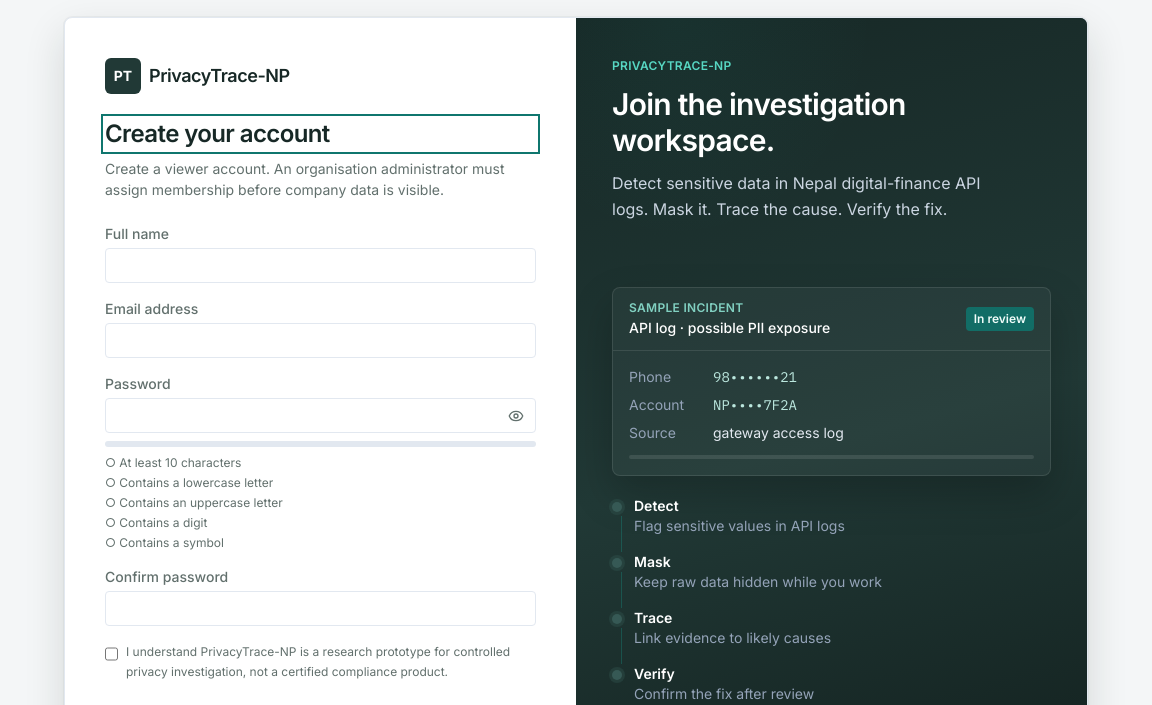
Test: auth signup UI › shows duplicate account error safely
Expected: the heading "Create your account" is shown, x1=105 y1=118 x2=536 y2=150
Type "Synth User" into the field labelled "Full name". click: (320,266)
box: x1=105 y1=248 x2=536 y2=283
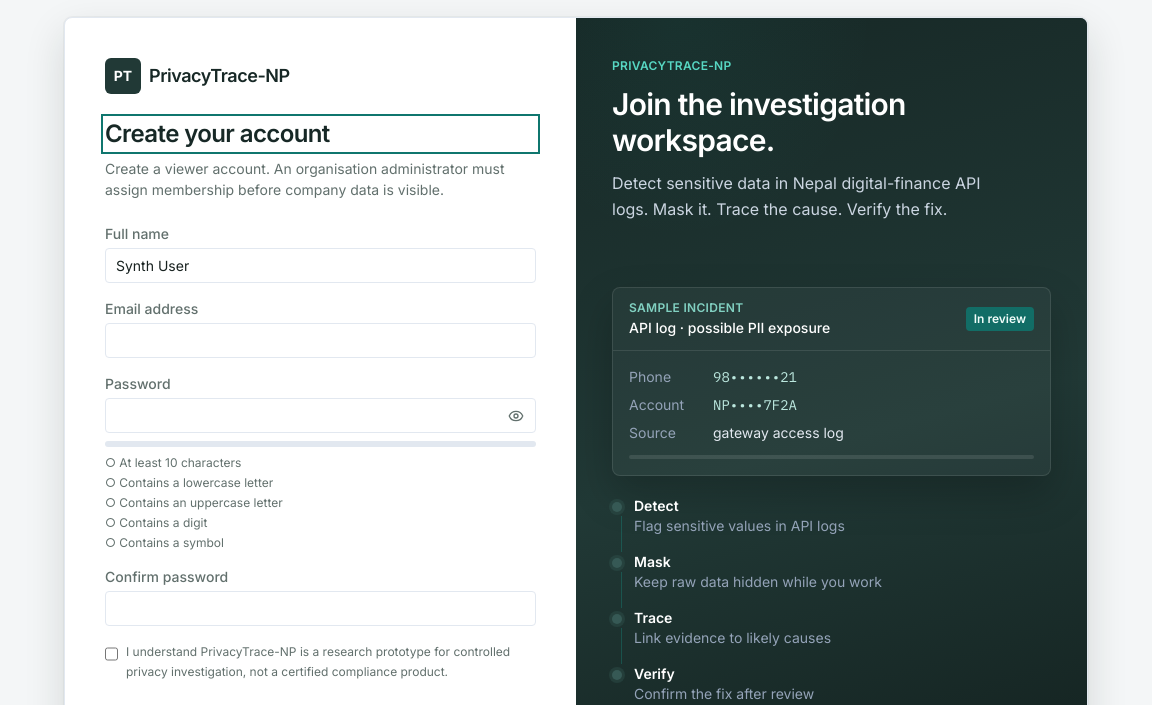
Type "synth@example.test" into the field labelled "Email address". click: (320,340)
box: x1=105 y1=323 x2=536 y2=358
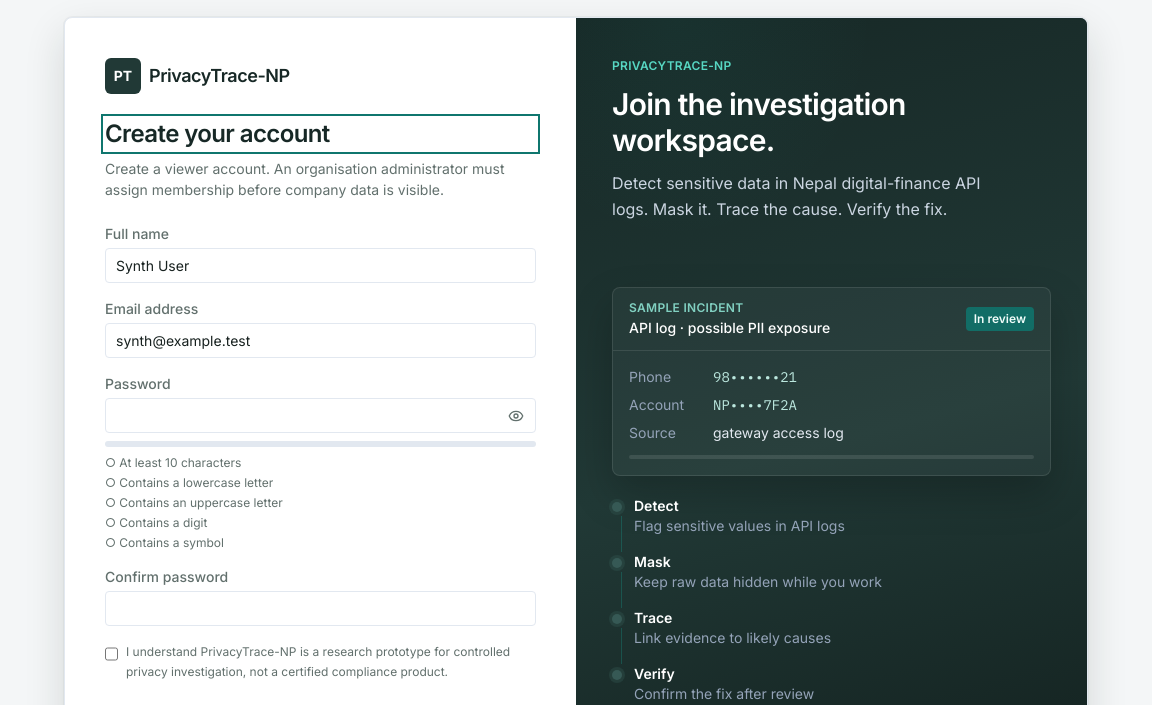
Type "SyntheticPass123!" into the password field labelled "Password". click: (320,416)
box: x1=105 y1=398 x2=536 y2=433
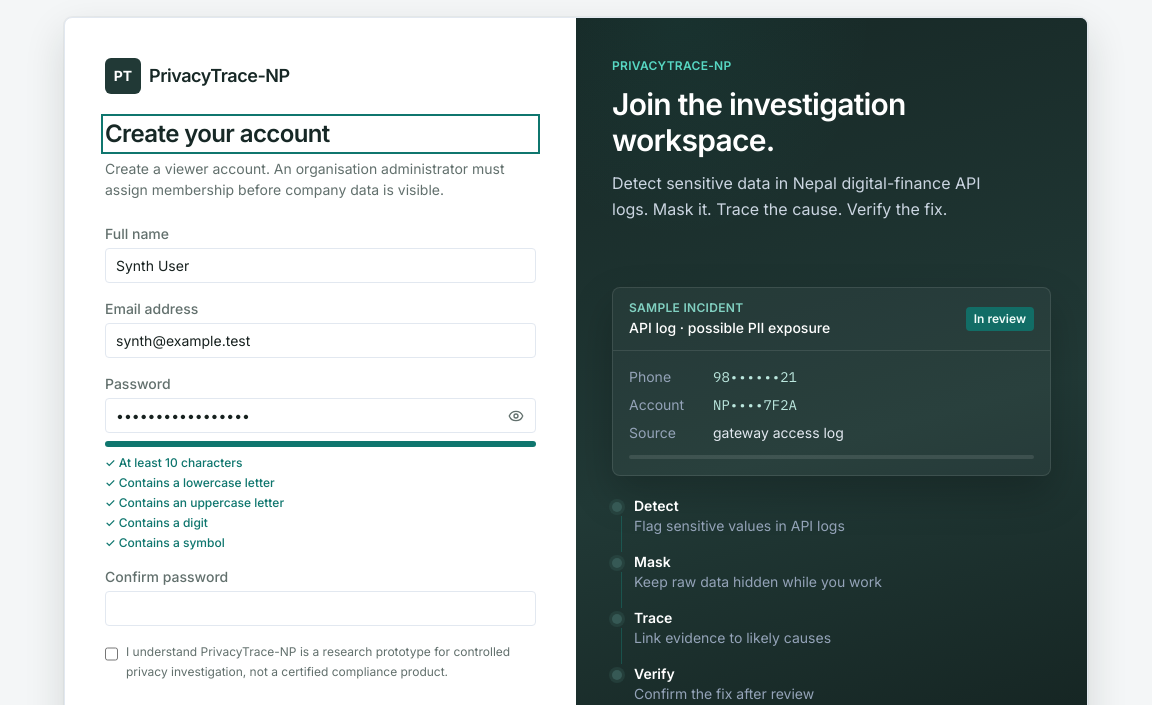
Type "SyntheticPass123!" into the password field labelled "Confirm password". click: (320,608)
box: x1=105 y1=591 x2=536 y2=626
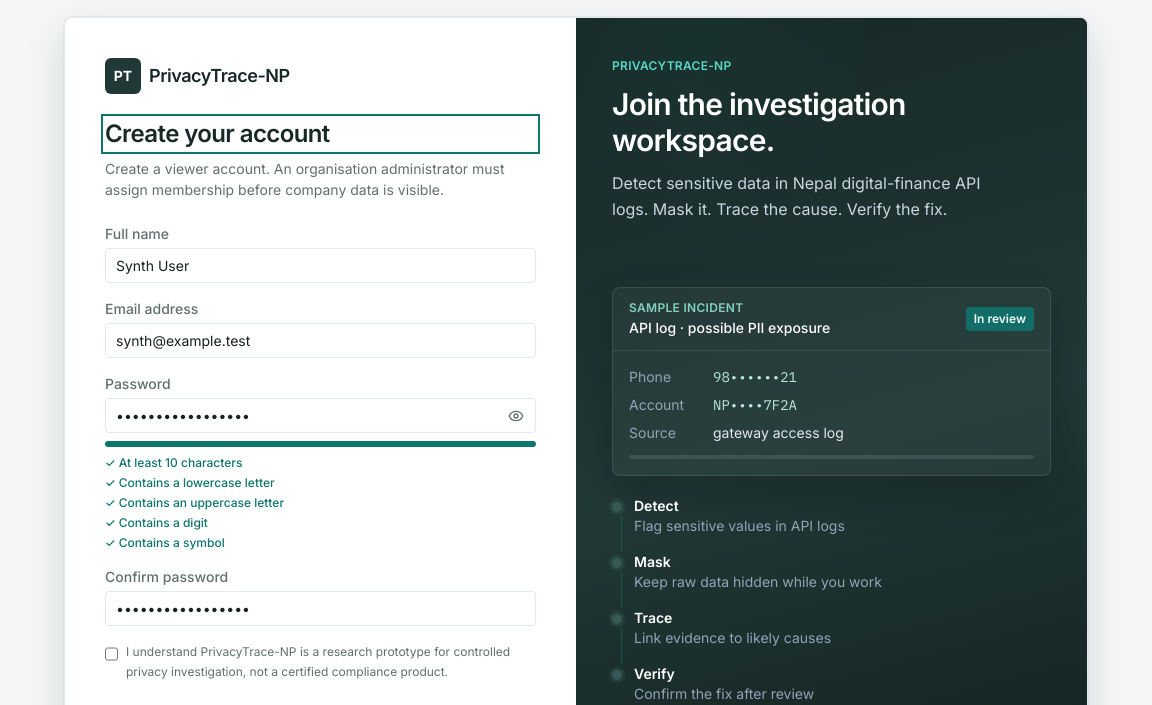
Click the checkbox labelled "research prototype". click: (112,654)
box: x1=105 y1=646 x2=118 y2=662
(page scrolled)
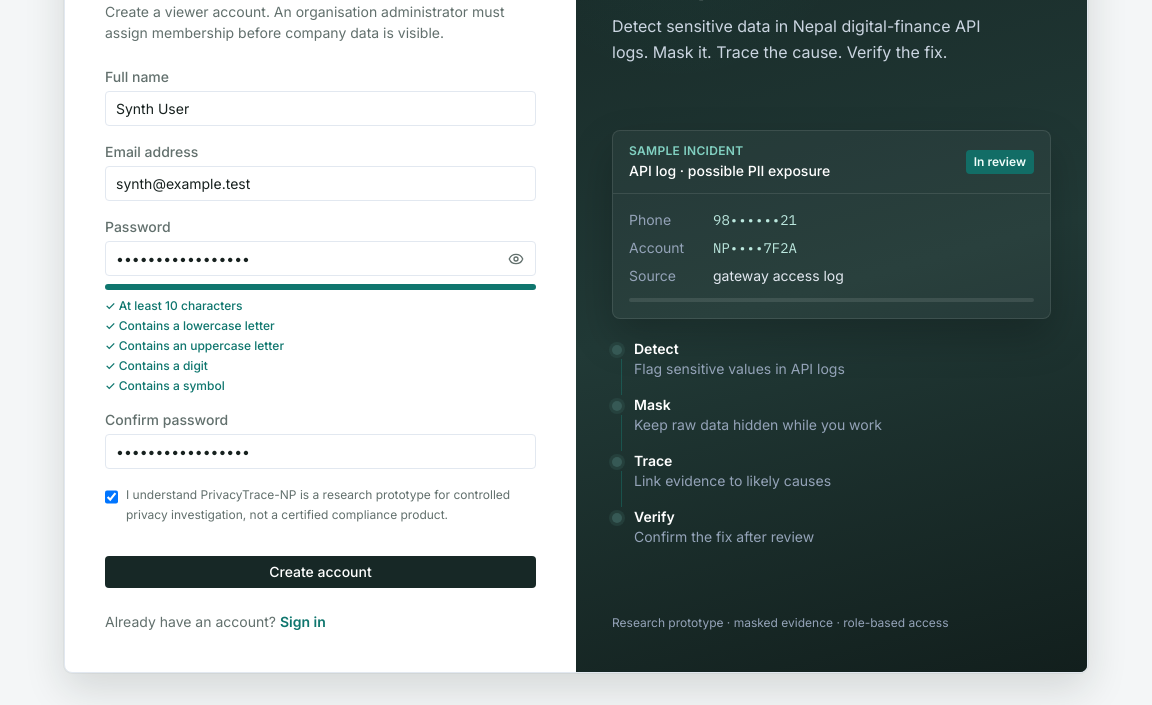
Click the button "Create account". click: (320,572)
box: x1=105 y1=556 x2=536 y2=588
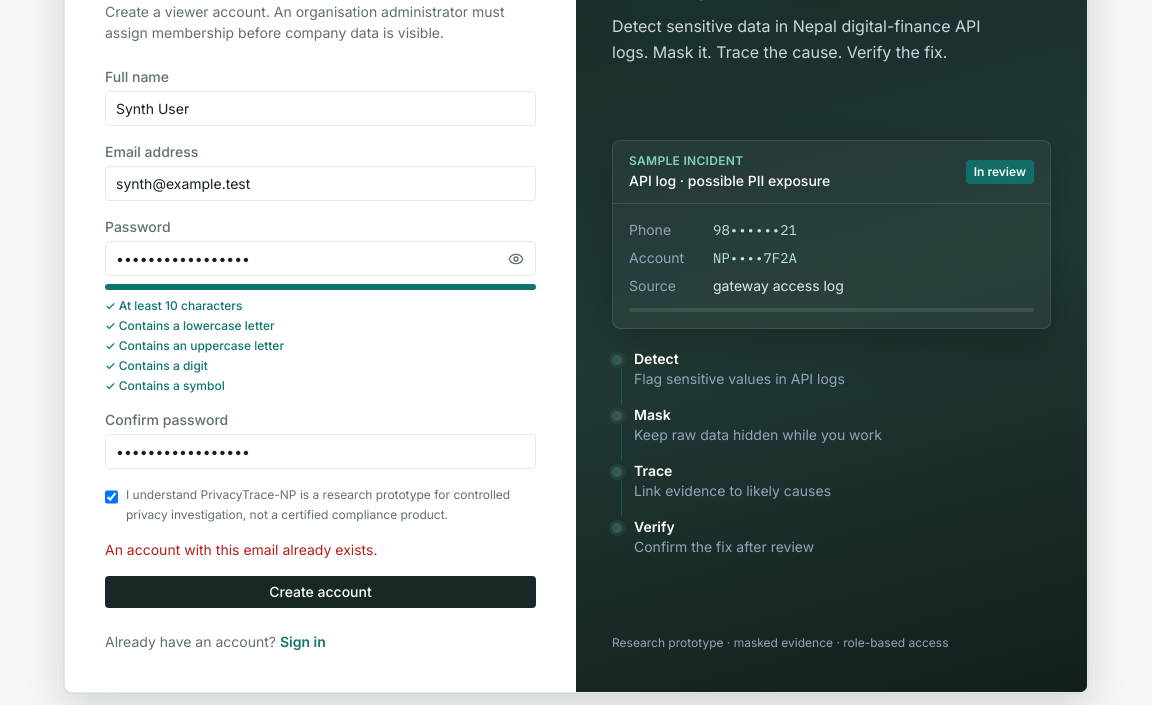
Result: the text "An account with this email already exists." is shown at x1=105 y1=541 x2=378 y2=558
